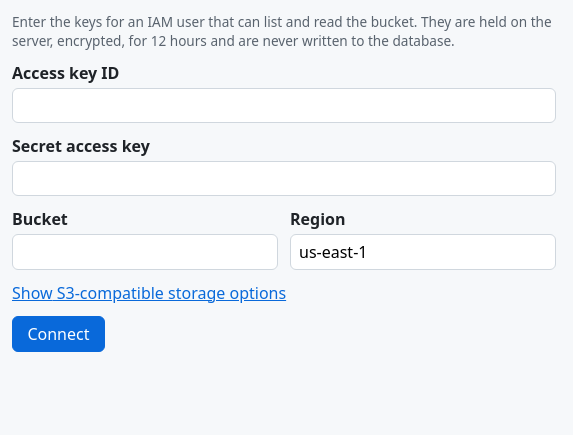
ConnectionPanel › reports rejected credentials
Type "AKIAEXAMPLE" into the field labelled "Access key ID" at coordinates (284, 106), box [12, 88, 556, 123]
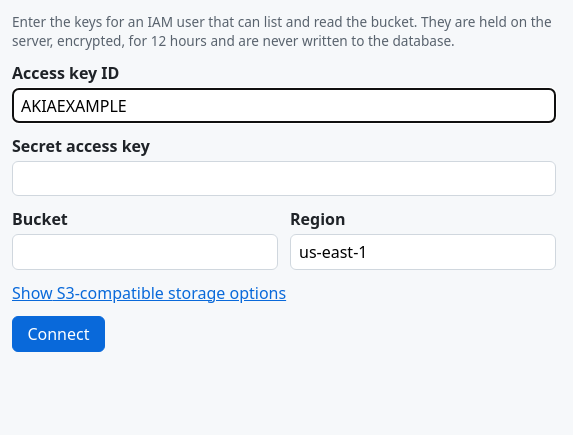
Type "wrong" into the password field labelled "Secret access key" at coordinates (284, 179), box [12, 161, 556, 196]
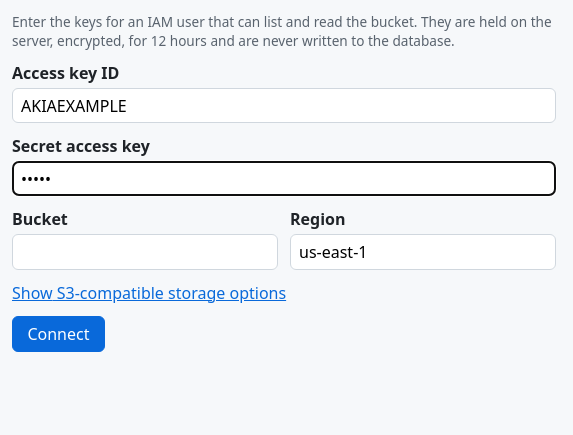
Click the button "Connect" at coordinates (58, 334), box [12, 316, 105, 352]
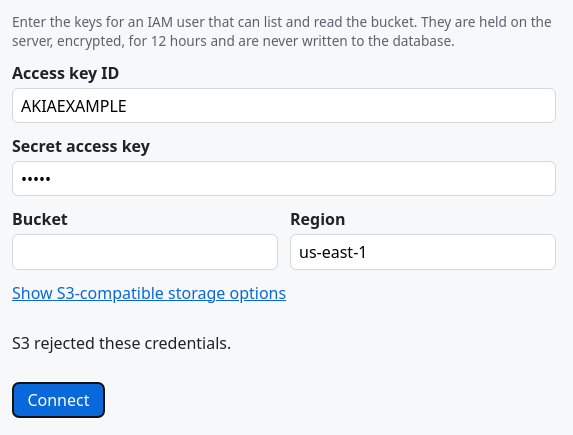
expect the message reads "S3 rejected these credentials.": met, box [12, 332, 231, 354]
